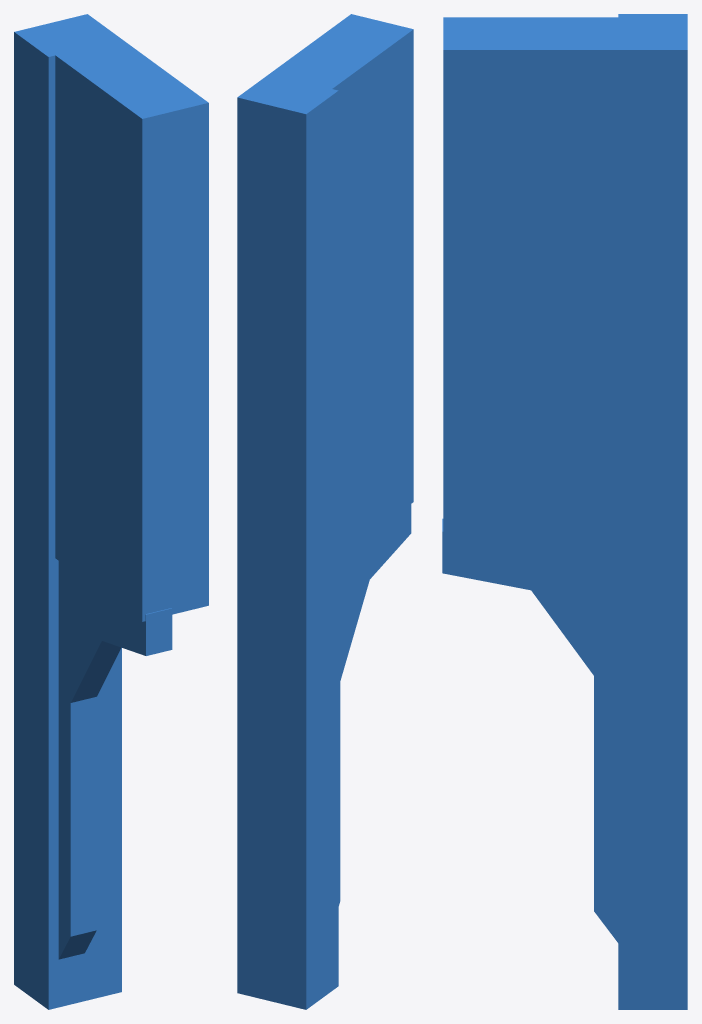
File: Collision_Overhang_Side_WoodBrick_Short_L.fbx
3 renders of one model, left to right at view 1: azimuth 30°, elevation 25°; view 2: azimuth 150°, elevation 25°; view 3: azimuth 270°, elevation 25°, orthographic. The views are drawn at different scales.
Parts seen in each view (by area): view 1: UCX_Overhang_Side_WoodBrick_Short_L_1; view 2: UCX_Overhang_Side_WoodBrick_Short_L_1; view 3: UCX_Overhang_Side_WoodBrick_Short_L_1.
Part boxes in pixels (box(x1,y1,x2,y2)): UCX_Overhang_Side_WoodBrick_Short_L_1: box(14, 14, 208, 1009); UCX_Overhang_Side_WoodBrick_Short_L_1: box(237, 14, 413, 1009); UCX_Overhang_Side_WoodBrick_Short_L_1: box(442, 14, 687, 1009).
Size of the model in its own units: 49.25 by 613 by 142.
